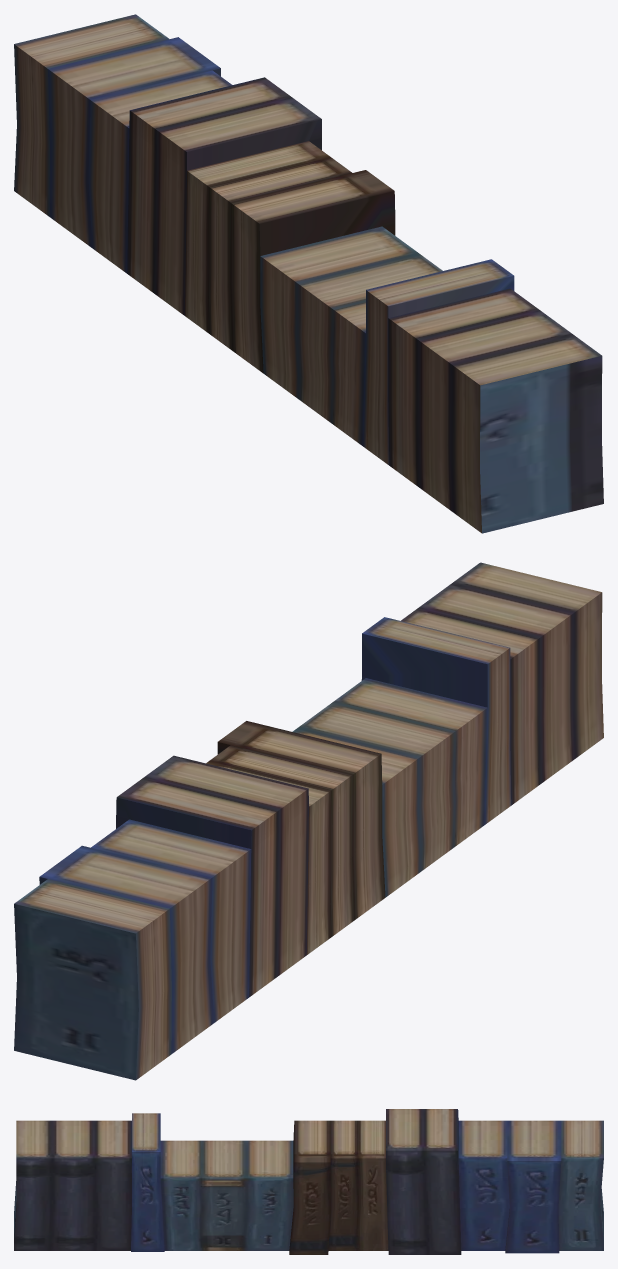
3 renders of one model, top to bottom at view 1: azimuth 30°, elevation 25°; view 2: azimuth 150°, elevation 25°; view 3: azimuth 270°, elevation 25°, orthographic. The views are drawn at different scales.
Bounding box in the file's own units: 0.4763 × 0.5575 × 2.86.
Materials: 1 (1 with a texture image).
